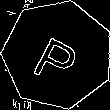P_NE: (29, 24, 86, 85)
